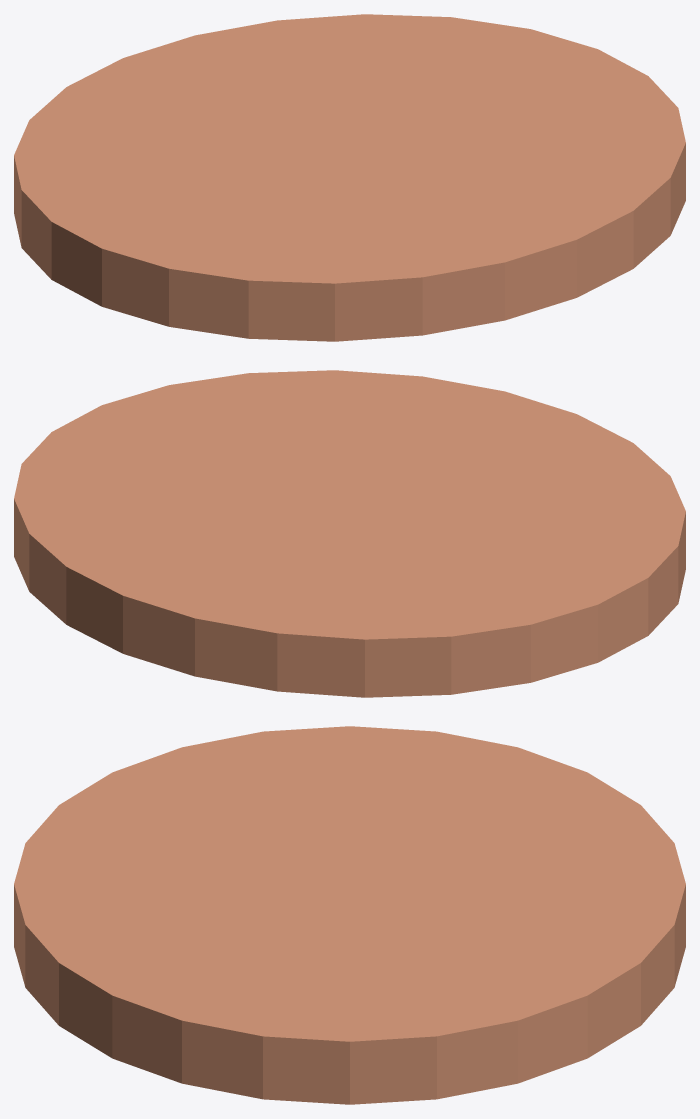
Rendered from original-5.obj.
The picture shows the model from 3 angles, top to bottom: view 1: azimuth 30°, elevation 25°; view 2: azimuth 150°, elevation 25°; view 3: azimuth 270°, elevation 25°; orthographic projection. The views are drawn at different scales.
Visible parts, largest first — view 1: #ID26; view 2: #ID26; view 3: #ID26.
Boxes of the visible parts, box(x1,y1,x2,y2) form: #ID26: box(14, 14, 685, 341); #ID26: box(14, 370, 685, 697); #ID26: box(14, 726, 685, 1104).
Size of the model in its own units: 0.2547 by 0.0237 by 0.2292.
